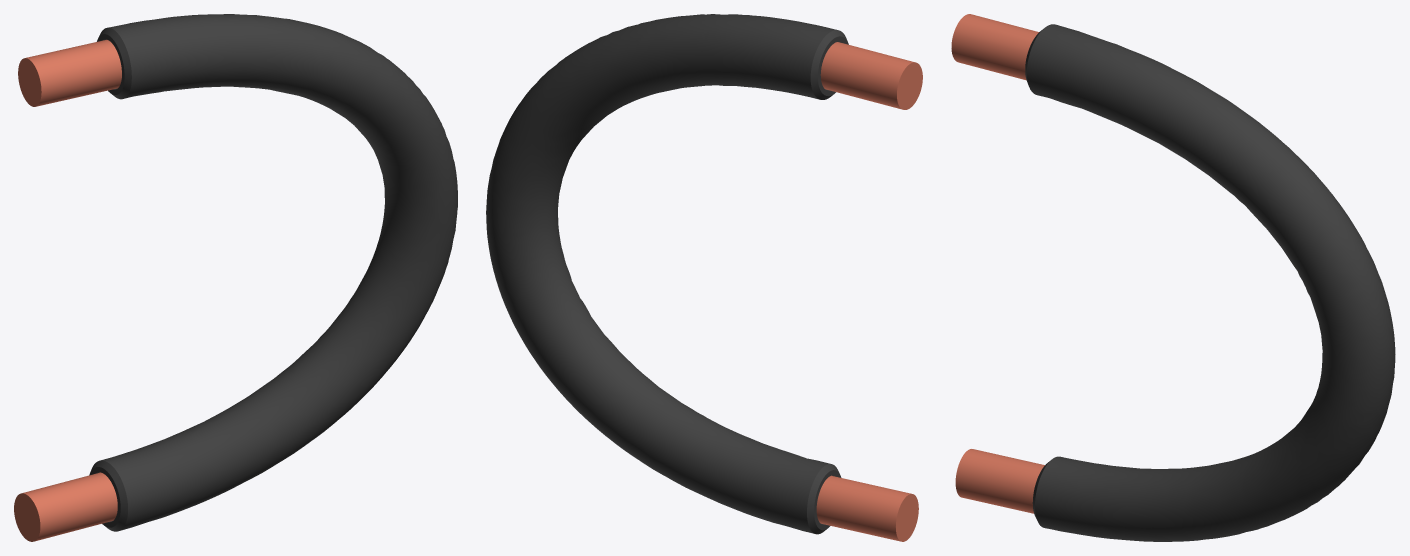
File: BATTERY CRATE STACK V2__BATTERY CRATE L1__MODULE CONNECTION CABLE ASM D__MODULE CONNECTION CABLE D.glb
3 views of the same model, side by side, from view 1: azimuth 30°, elevation 25°; view 2: azimuth 150°, elevation 25°; view 3: azimuth 330°, elevation 25° (orthographic).
Visible parts, largest first — view 1: MODULE CONNECTION CABLE D; view 2: MODULE CONNECTION CABLE D; view 3: MODULE CONNECTION CABLE D.
Boxes of the visible parts, <box> form: MODULE CONNECTION CABLE D: <box>14,14,457,541</box>; MODULE CONNECTION CABLE D: <box>486,14,922,541</box>; MODULE CONNECTION CABLE D: <box>951,14,1395,541</box>.
Size of the model in its own units: 0.1374 by 0.1553 by 0.0258.
